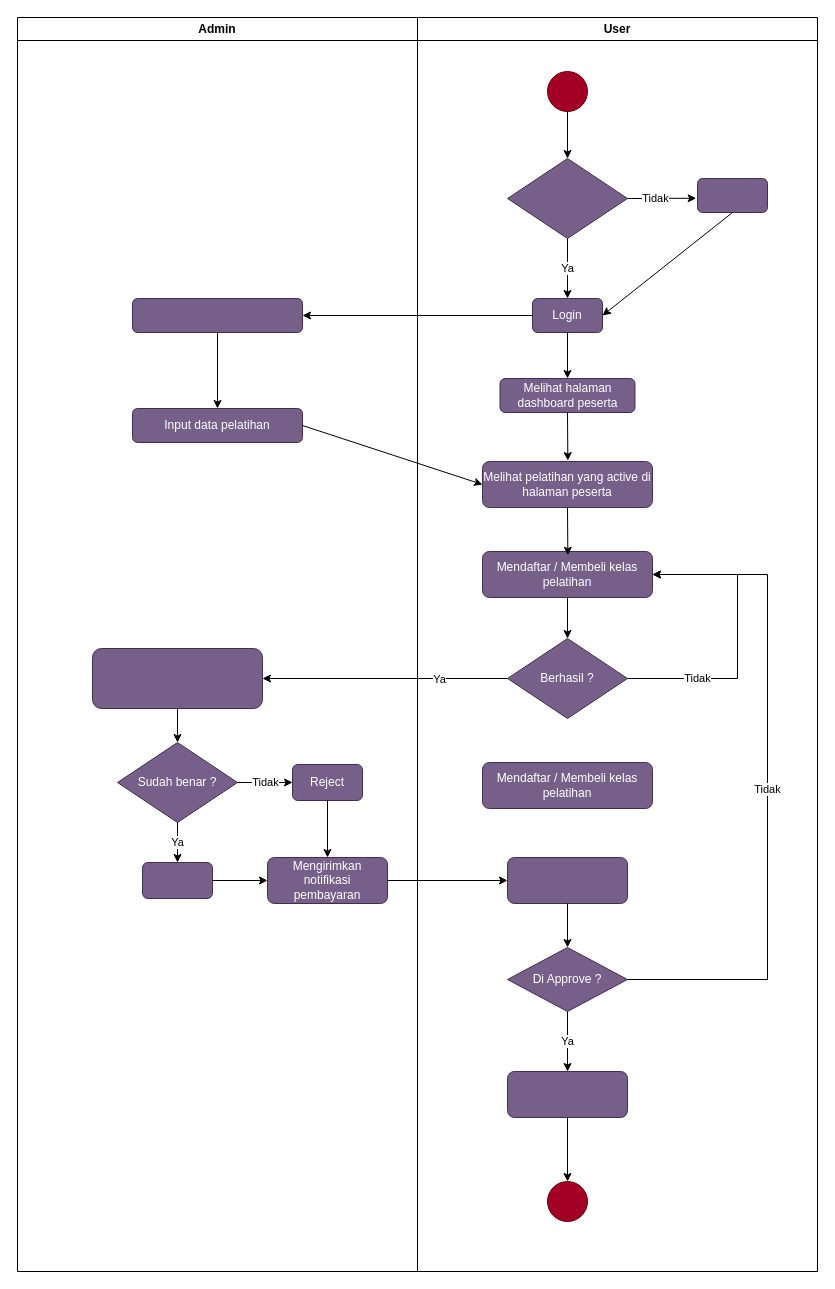
Image size: 835x1289. Some labels were removed from this diagram. The centre of each missing label's shape, as x and y in pixels:
"Approve" belongs at pixel 177 880.
"melihat halaman validasi pembayaran dari pelatihan yang sudah dibeli peserta" belongs at pixel 177 678.
"Melihat informasi pembayaran" belongs at pixel 567 880.
"Melihat Peserta Pelatihan" belongs at pixel 217 315.
"Pelatihan jadi active dan jadi peserta" belongs at pixel 567 1094.
"Punya akun ?" belongs at pixel 567 198.
"Register" belongs at pixel 732 195.
